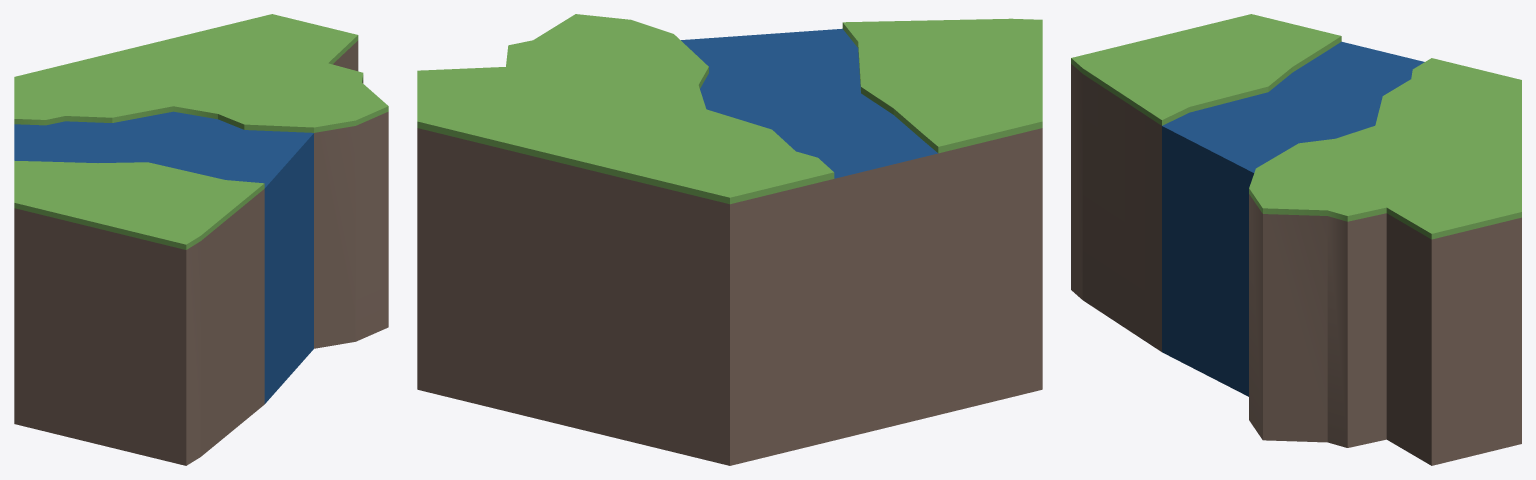
File: tile_river_waterfall.fbx
3 renders of one model, left to right at view 1: azimuth 30°, elevation 25°; view 2: azimuth 150°, elevation 25°; view 3: azimuth 270°, elevation 25°, orthographic. The views are drawn at different scales.
Visible parts, largest first — view 1: Tile_River_Waterfall; view 2: Tile_River_Waterfall; view 3: Tile_River_Waterfall.
Boxes of the visible parts, x1,y1,x2,y2 form: Tile_River_Waterfall: [14, 14, 388, 465]; Tile_River_Waterfall: [417, 14, 1042, 465]; Tile_River_Waterfall: [1071, 14, 1521, 465].
Size of the model in its own units: 1.67 by 0.82 by 1.44.
